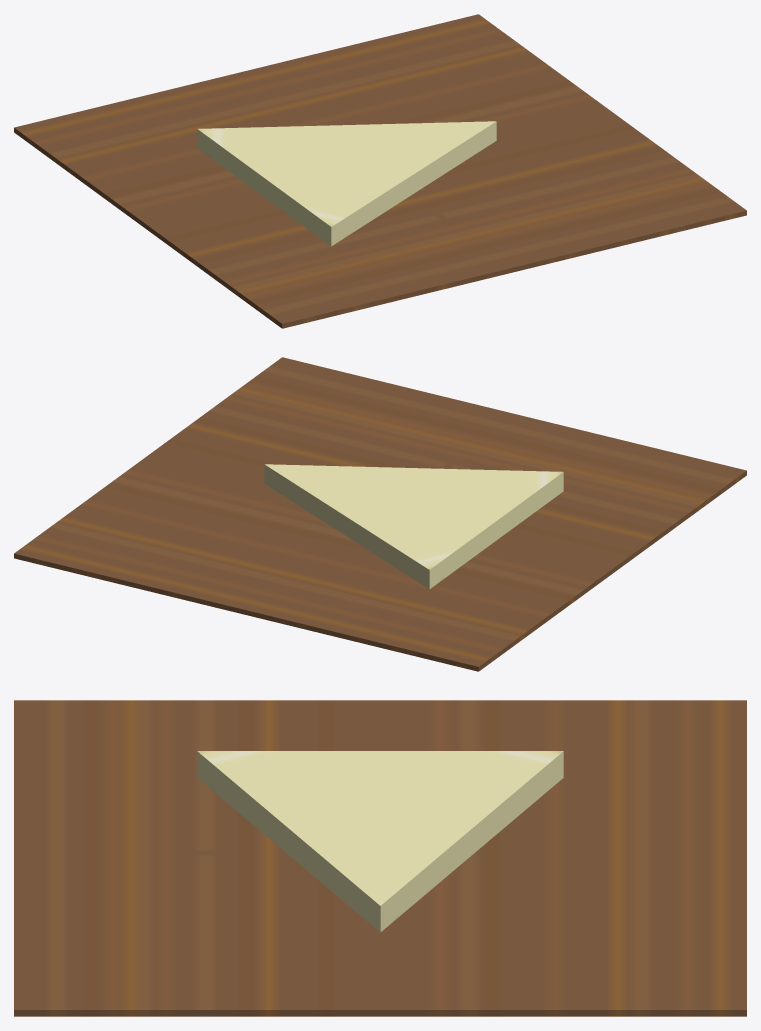
The model's file is Stacker.obj.
3 renders of one model, top to bottom at view 1: azimuth 30°, elevation 25°; view 2: azimuth 150°, elevation 25°; view 3: azimuth 270°, elevation 25°, orthographic. The views are drawn at different scales.
Parts seen in each view (by area): view 1: mergedBlocks; view 2: mergedBlocks; view 3: mergedBlocks.
Boxes of the visible parts, x1,y1,x2,y2 form: mergedBlocks: (14,14,746,328); mergedBlocks: (14,357,746,671); mergedBlocks: (14,700,746,1016).
Bounding box in the file's own units: 1 × 0.05 × 1.
